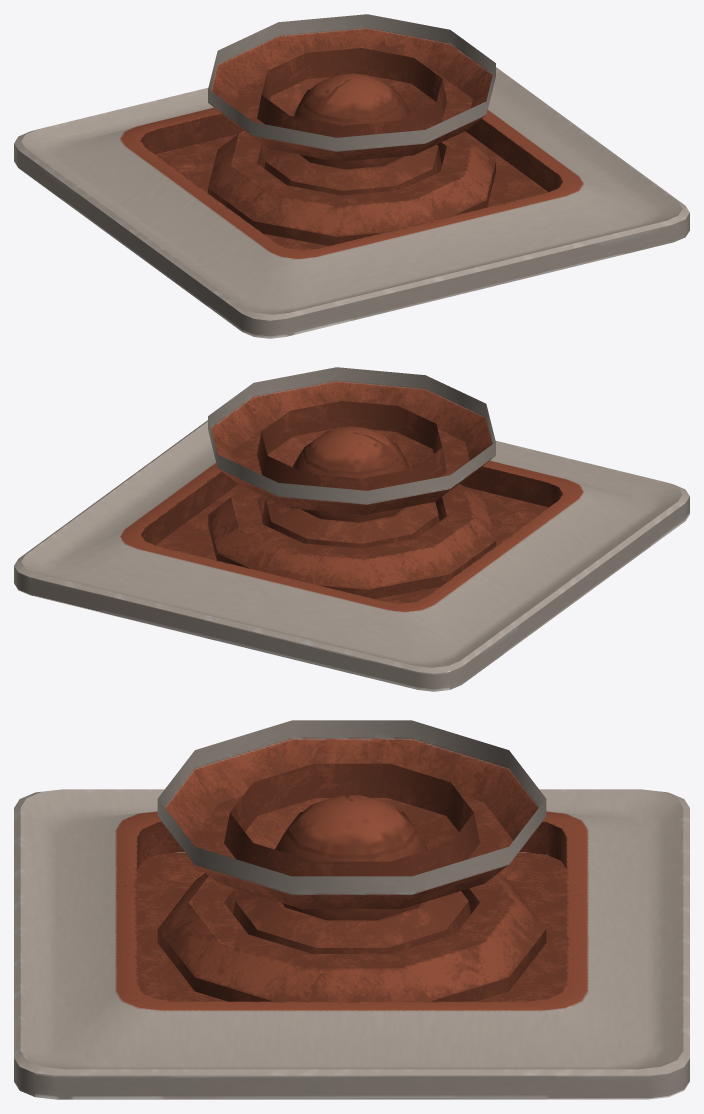
File: lightpanel.fbx
3 renders of one model, top to bottom at view 1: azimuth 30°, elevation 25°; view 2: azimuth 150°, elevation 25°; view 3: azimuth 270°, elevation 25°, orthographic. The views are drawn at different scales.
Visible parts, largest first — view 1: Cube.002, Cube.001; view 2: Cube.002, Cube.001; view 3: Cube.002, Cube.001.
Boxes of the visible parts, box(x1,y1,x2,y2) form: Cube.002: box(14, 67, 689, 338); Cube.001: box(208, 14, 495, 169); Cube.002: box(14, 420, 689, 691); Cube.001: box(208, 367, 495, 522); Cube.002: box(14, 789, 689, 1099); Cube.001: box(157, 720, 546, 920).
Size of the model in its own units: 248 by 64.09 by 248.
Materials: 1 (1 with a texture image).
